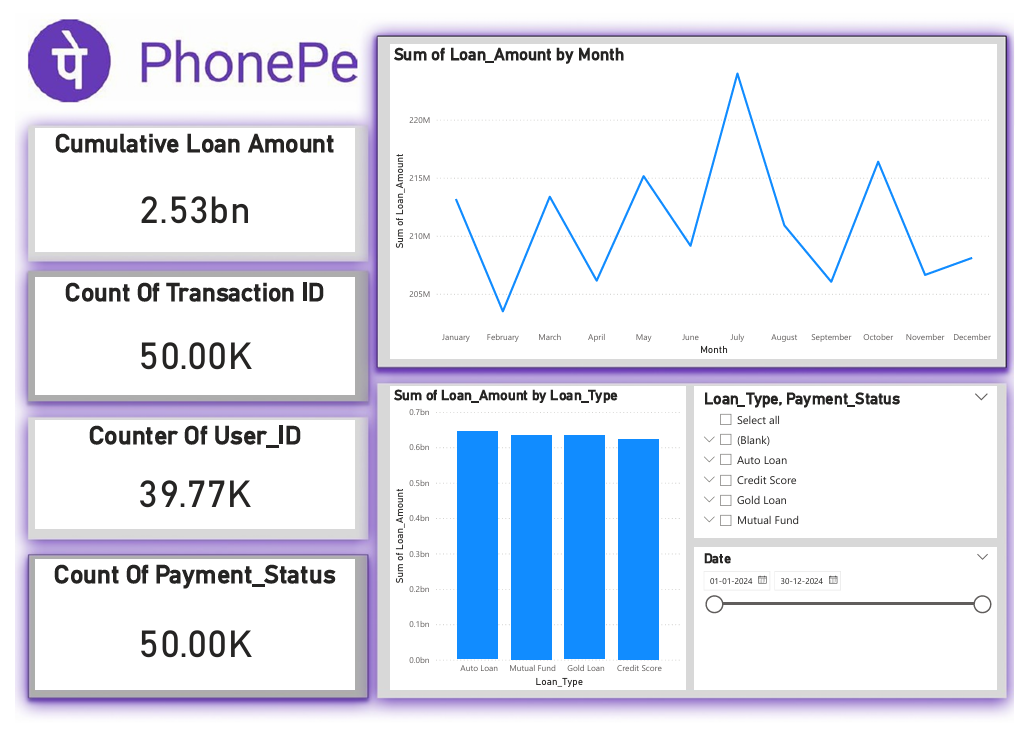

This screenshot's page, from the dashboard's own definition file:
{"tool":"powerbi","page":{"name":"Loans Dashboard","canvas":[1440,1024],"ordinal":0},"visuals":[{"type":"card","title":"Cumulative Loan Amount","fields":{"Values":["Sum(Loans.Loan_Amount)"]},"box":[28,166.2,460.5,178.2],"z":0},{"type":"card","title":"Count Of Transaction ID","fields":{"Values":["CountNonNull(Loans.Transaction_ID)"]},"box":[27.6,379.8,461,170.4],"z":1},{"type":"card","title":"Counter Of User_ID","fields":{"Values":["Count(Loans.User_ID)"]},"box":[27.6,585.9,461,157.4],"z":2},{"type":"card","title":"Count Of Payment_Status","fields":{"Values":["CountNonNull(Loans.Payment_Status)"]},"box":[28,786.9,460.5,188.2],"z":3},{"type":"lineChart","fields":{"Category":["Loans.Date.Variation.Date Hierarchy.Month"],"Y":["Sum(Loans.Loan_Amount)"]},"box":[540.5,45.4,874.9,452.8],"z":4},{"type":"columnChart","fields":{"Category":["Loans.Loan_Type"],"Y":["Sum(Loans.Loan_Amount)"]},"box":[540.5,537.2,425.3,438.2],"z":5},{"type":"slicer","fields":{"Values":["Loans.Loan_Type","Loans.Payment_Status"]},"box":[978.7,537.2,436.6,219.1],"z":6},{"type":"slicer","fields":{"Values":["Loans.Date"]},"box":[978.7,769.4,436.6,206.1],"z":7}]}

Visuals, with their boxes in screenshot pixels (x1, y1, x2, y2), scaled from the page's 1440x1024 canvas onto the 1029x740 screenshot:
"Cumulative Loan Amount" card: crop(20, 120, 349, 249)
"Count Of Transaction ID" card: crop(20, 274, 349, 398)
"Counter Of User_ID" card: crop(20, 423, 349, 537)
"Count Of Payment_Status" card: crop(20, 569, 349, 705)
lineChart - Loans.Date.Variation.Date Hierarchy.Month x Sum(Loans.Loan_Amount): crop(386, 33, 1011, 360)
columnChart - Loans.Loan_Type x Sum(Loans.Loan_Amount): crop(386, 388, 690, 705)
slicer - Loans.Loan_Type x Loans.Payment_Status: crop(699, 388, 1011, 547)
slicer - Loans.Date: crop(699, 556, 1011, 705)
